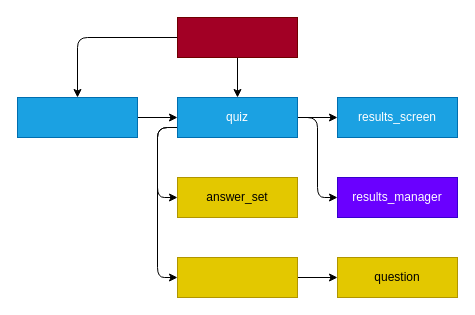
This 475x315 diagram has some shape labels left out. The box of each missing label's shape, as (x1, y1, x2, y2) in pixels:
front_page: (16, 96, 138, 138)
main: (176, 16, 298, 58)
question_set: (176, 256, 298, 298)
